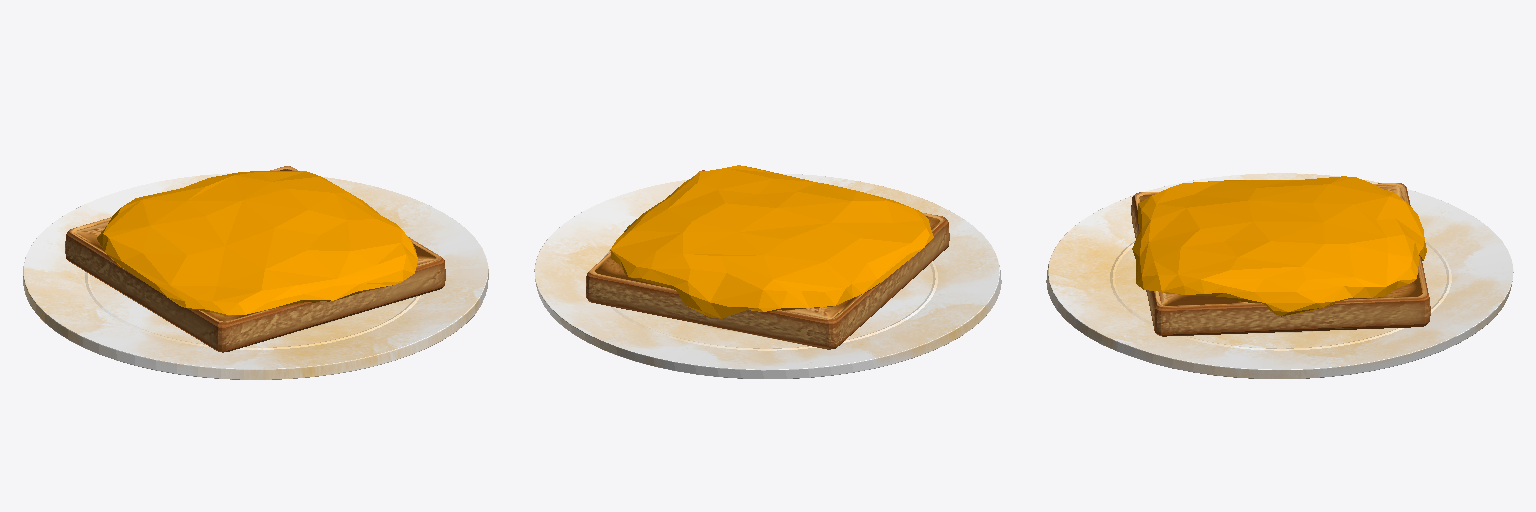
3 renders of one model, left to right at view 1: azimuth 30°, elevation 25°; view 2: azimuth 150°, elevation 25°; view 3: azimuth 270°, elevation 25°, orthographic.
Visible parts, largest first — view 1: obj3, obj4, obj1; view 2: obj3, obj4, obj1; view 3: obj4, obj3, obj1.
Boxes of the visible parts, x1=… form: obj3: x1=97, y1=171, x2=417, y2=314; obj4: x1=23, y1=173, x2=488, y2=379; obj1: x1=65, y1=166, x2=445, y2=352; obj3: x1=610, y1=165, x2=933, y2=318; obj4: x1=534, y1=173, x2=1001, y2=378; obj1: x1=586, y1=170, x2=949, y2=349; obj4: x1=1046, y1=173, x2=1513, y2=378; obj3: x1=1132, y1=176, x2=1426, y2=316; obj1: x1=1131, y1=183, x2=1430, y2=336.
Bounding box in the file's own units: 0.3043 × 0.0547 × 0.3048.
3 materials, 3 textured.